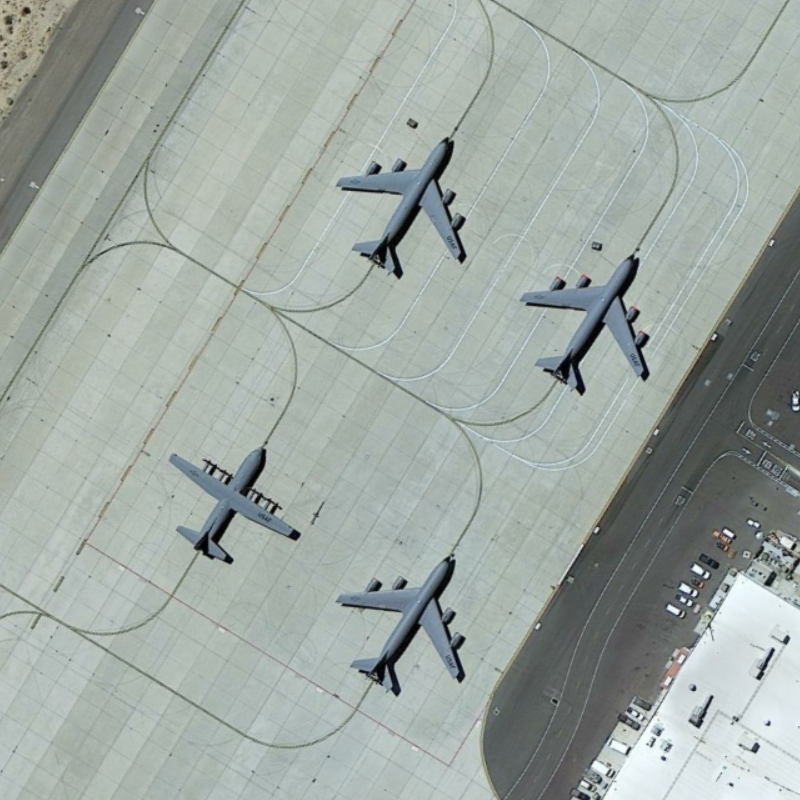A14: (324, 129, 476, 287), (507, 247, 665, 393), (329, 549, 469, 697)
A2: (160, 441, 307, 571)
